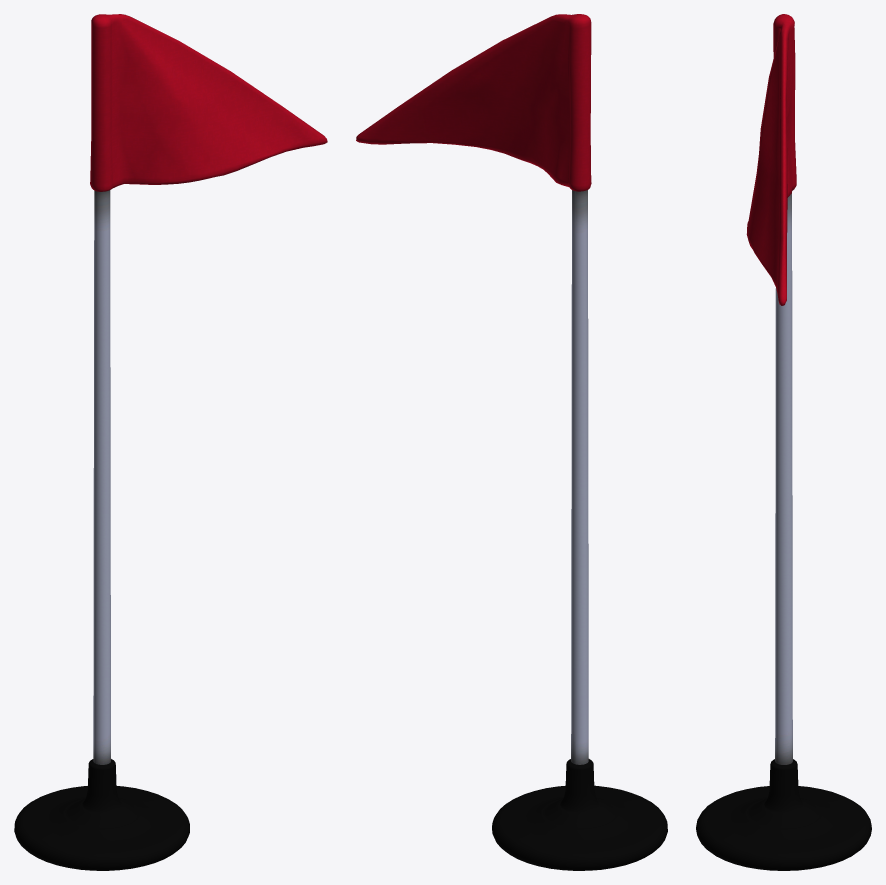
File: Marker.fbx
3 renders of one model, left to right at view 1: azimuth 30°, elevation 25°; view 2: azimuth 150°, elevation 25°; view 3: azimuth 270°, elevation 25°, orthographic.
Visible parts, largest first — view 1: node_id30; view 2: node_id30; view 3: node_id30.
Boxes of the visible parts, box(x1,y1,x2,y2) form: node_id30: box(14, 14, 327, 870); node_id30: box(356, 14, 667, 870); node_id30: box(696, 14, 871, 870).
Bounding box in the file's own units: 0.196 × 0.512 × 0.0995.
1 material, 1 textured.
